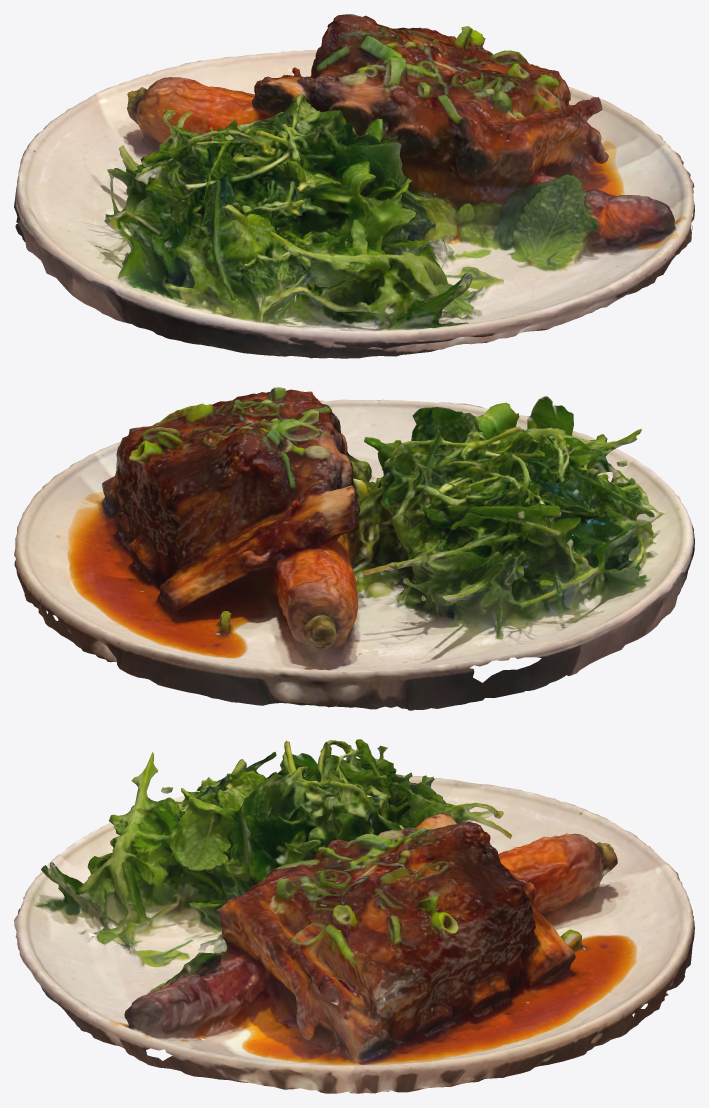
File: ribs.glb
The picture shows the model from 3 angles, top to bottom: view 1: azimuth 30°, elevation 25°; view 2: azimuth 150°, elevation 25°; view 3: azimuth 270°, elevation 25°; orthographic projection.
Parts seen in each view (by area): view 1: Object_4; view 2: Object_4; view 3: Object_4.
Boxes of the visible parts, <box> form: Object_4: <box>14,14,694,358</box>; Object_4: <box>14,387,694,710</box>; Object_4: <box>14,739,694,1093</box>.
Bounding box in the file's own units: 0.265 × 0.0655 × 0.2642.
1 material, 1 textured.
